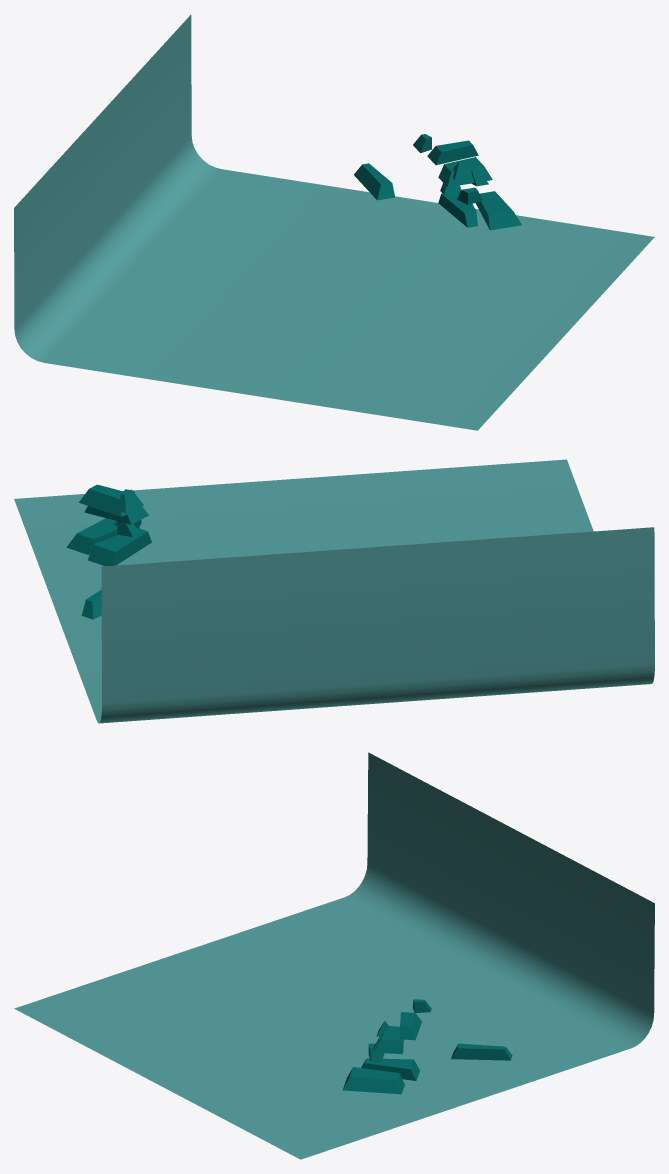
3 views of the same model, one above another, from view 1: azimuth 30°, elevation 25°; view 2: azimuth 150°, elevation 25°; view 3: azimuth 270°, elevation 25° (orthographic). The views are drawn at different scales.
Visible parts, largest first — view 1: Plane, Cube.011, Cube.001, Cube.002, Cube.009, Cube.010; view 2: Plane, Cube.010, Cube.011, Cube.002, Cube.009, Cube.001; view 3: Plane, Cube.011, Cube.001, Cube.010, Cube.009.
Part boxes in pixels (x1,y1,x2,y2): Plane: (14, 14, 654, 430); Cube.011: (475, 191, 521, 230); Cube.001: (354, 163, 395, 200); Cube.002: (427, 140, 478, 165); Cube.009: (438, 157, 492, 187); Cube.010: (438, 192, 477, 227); Plane: (14, 459, 654, 723); Cube.010: (88, 528, 151, 566); Cube.011: (66, 518, 139, 554); Cube.002: (79, 484, 137, 516); Cube.009: (84, 505, 148, 524); Cube.001: (81, 589, 101, 619); Plane: (14, 752, 654, 1159); Cube.011: (342, 1067, 404, 1094); Cube.001: (451, 1043, 512, 1060); Cube.010: (361, 1058, 419, 1080); Cube.009: (374, 1026, 403, 1054).
Size of the model in its own units: 21.43 by 5.14 by 21.47.
